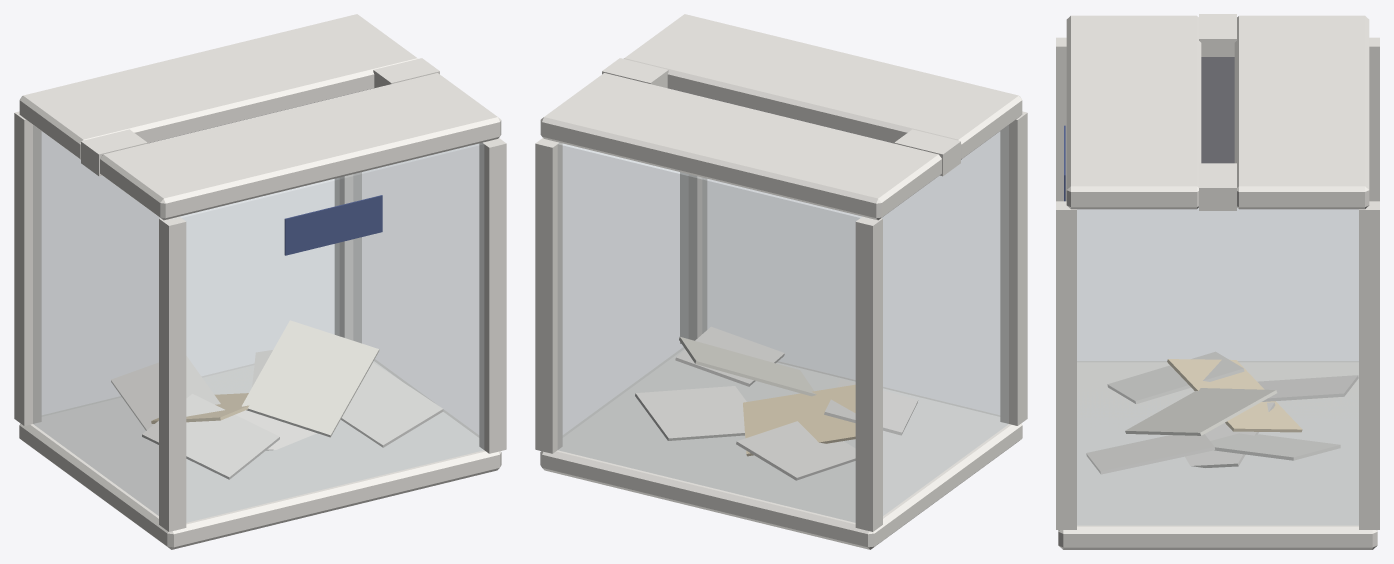
The model's file is prop_ballot_box_01.glb.
The picture shows the model from 3 angles, left to right: view 1: azimuth 30°, elevation 25°; view 2: azimuth 150°, elevation 25°; view 3: azimuth 270°, elevation 25°; orthographic projection. The views are drawn at different scales.
Visible parts, largest first — view 1: prop_ballot_box_01_body; view 2: prop_ballot_box_01_body; view 3: prop_ballot_box_01_body.
Part boxes in pixels (x1,y1,x2,y2): prop_ballot_box_01_body: (14, 14, 506, 549); prop_ballot_box_01_body: (535, 14, 1027, 549); prop_ballot_box_01_body: (1056, 14, 1379, 549).
Size of the model in its own units: 0.49 by 0.48 by 0.385.
